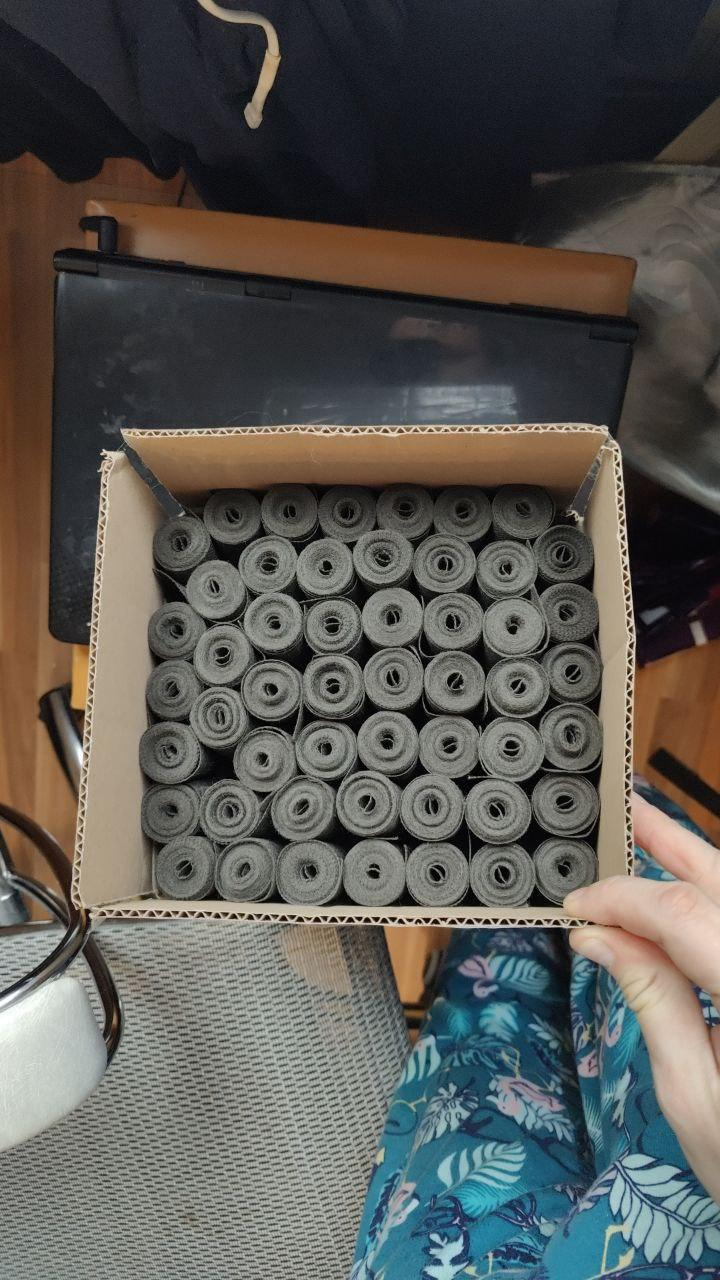roll: (529, 769, 602, 842), (462, 775, 534, 848), (268, 772, 340, 845), (334, 767, 405, 841), (273, 837, 345, 908), (476, 712, 547, 783), (398, 771, 467, 844), (480, 595, 550, 666), (537, 701, 605, 774), (467, 840, 537, 910), (403, 839, 472, 910), (341, 836, 409, 908), (483, 655, 553, 724), (136, 717, 204, 788), (531, 835, 599, 906), (292, 716, 360, 786), (230, 724, 298, 794), (151, 833, 218, 904), (354, 709, 422, 778), (299, 650, 366, 720), (360, 586, 427, 656), (188, 683, 254, 754), (420, 649, 487, 718), (420, 590, 487, 659), (363, 644, 429, 714), (239, 657, 305, 727), (415, 713, 483, 780), (412, 532, 479, 600), (474, 537, 541, 605), (536, 580, 603, 648), (213, 836, 280, 904), (240, 589, 306, 658), (197, 777, 264, 844), (191, 621, 257, 689), (294, 536, 360, 603), (184, 557, 249, 625), (302, 593, 367, 660), (351, 527, 416, 594), (236, 534, 301, 601), (540, 639, 604, 707), (532, 522, 597, 588), (202, 487, 266, 553), (151, 515, 214, 582), (139, 779, 203, 844), (490, 483, 555, 546), (259, 482, 321, 546), (143, 657, 205, 721), (145, 601, 207, 664), (434, 485, 498, 546), (316, 483, 378, 545), (375, 482, 435, 544)
